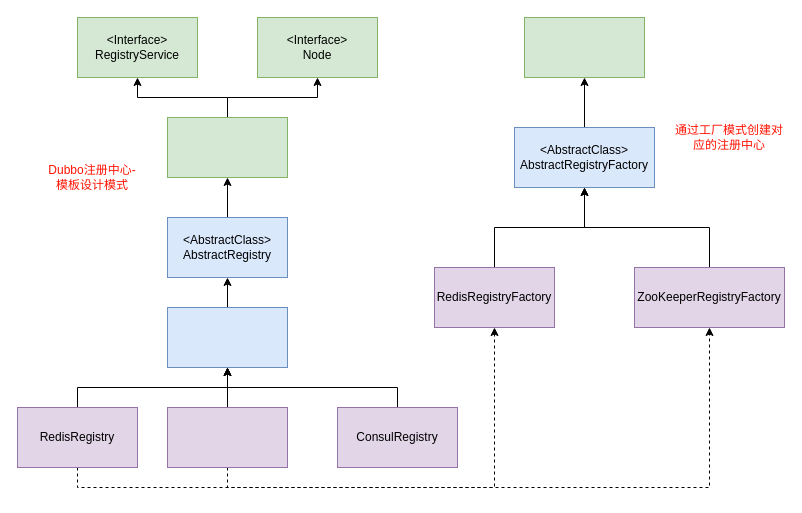
This 802x513 diagram has some shape labels left out. The box of each missing label's shape, as (x1, y1, x2, y2) in pixels:
<AbstractClass> FailbackRegistry: (166, 306, 288, 368)
<Interface> Registry: (166, 116, 288, 178)
<Interface> RegistryFactory: (524, 16, 644, 78)
ZooKeeperRegistry: (166, 406, 288, 468)
